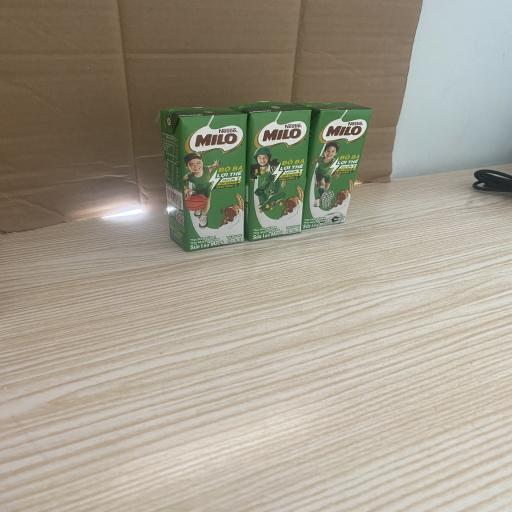milo: (160, 101, 372, 252)
